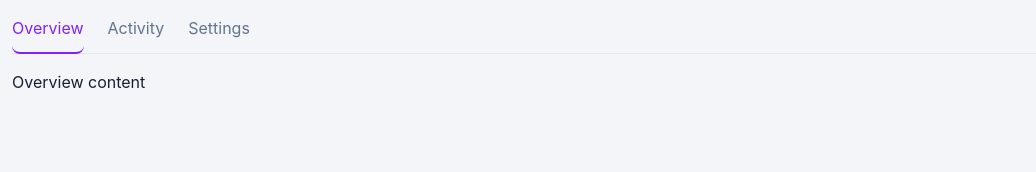
it: Tabs › selects the first item by default and changes panels on click
The width and height of the screenshot is (1036, 172).
Expected: the panel reads "Overview content", [12, 72, 145, 92]
Expected: the text "Activity content" is not shown
Click the tab "Activity".
click(136, 33)  # box [108, 12, 164, 54]
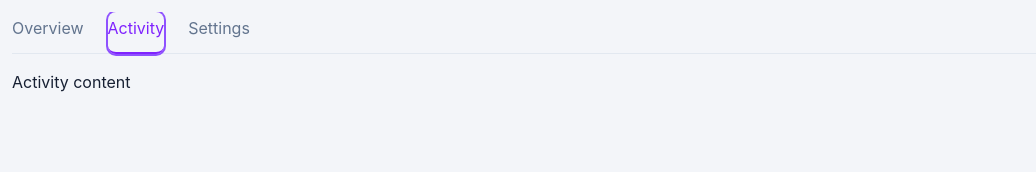
Result: the panel reads "Activity content" at [12, 72, 130, 92]
